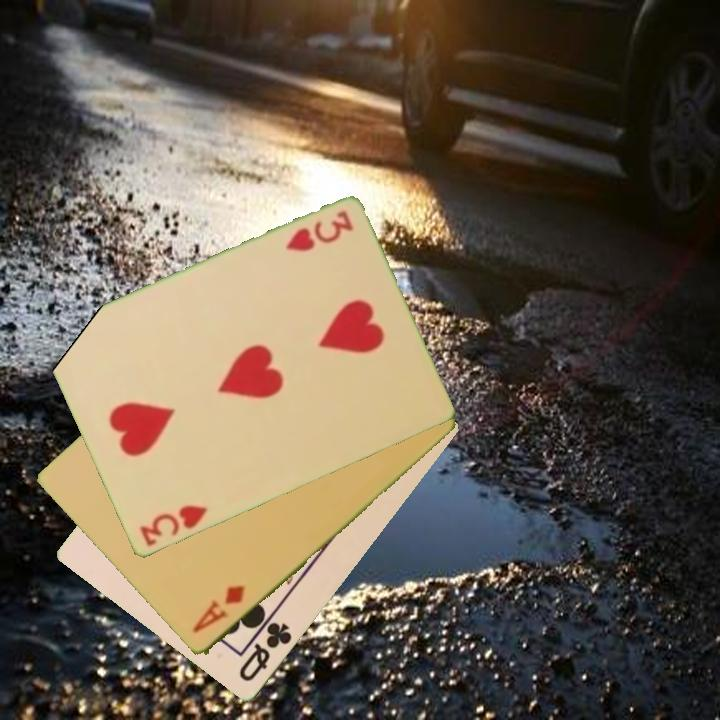3h: (281, 207, 356, 255), (136, 502, 210, 550)
Ad: (189, 582, 248, 637)
Qc: (235, 619, 295, 686)
